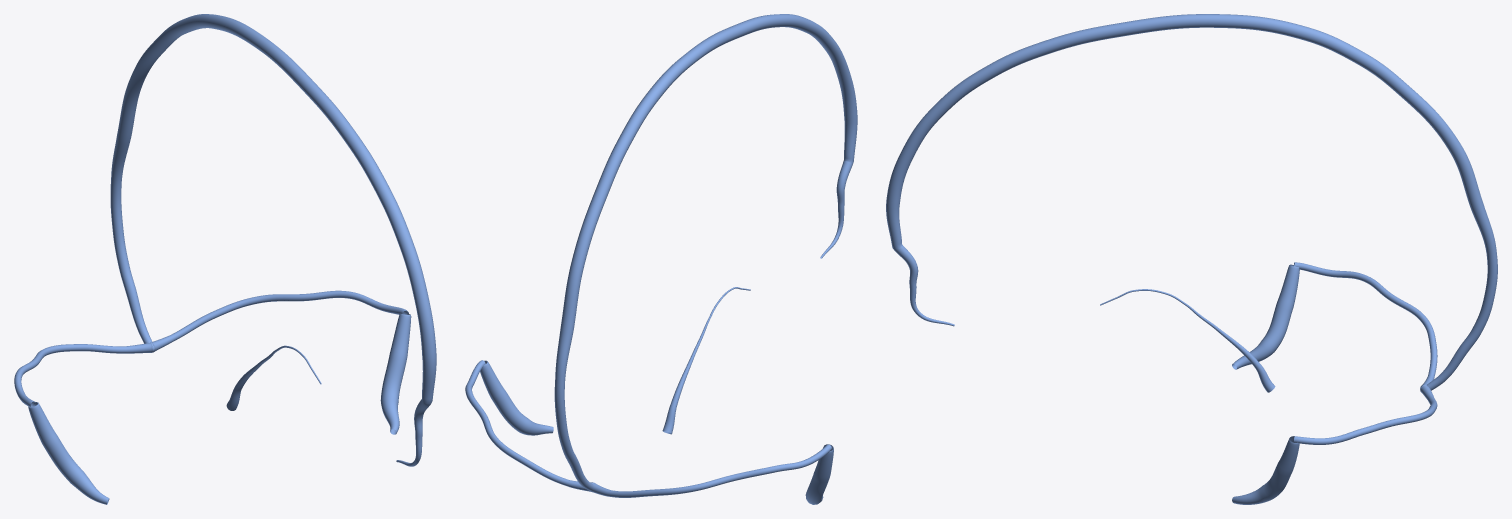
The model's file is cerebral-venous-balanced.glb.
3 renders of one model, left to right at view 1: azimuth 30°, elevation 25°; view 2: azimuth 150°, elevation 25°; view 3: azimuth 270°, elevation 25°, orthographic. The views are drawn at different scales.
Parts seen in each view (by area): view 1: za.superior-sagittal-sinus, za.transverse-sinus-l, za.sigmoid-sinus-l, za.sigmoid-sinus-r, za.transverse-sinus-r, za.straight-sinus; view 2: za.superior-sagittal-sinus, za.transverse-sinus-r, za.sigmoid-sinus-l, za.transverse-sinus-l, za.sigmoid-sinus-r, za.straight-sinus; view 3: za.superior-sagittal-sinus, za.sigmoid-sinus-r, za.transverse-sinus-r, za.sigmoid-sinus-l, za.transverse-sinus-l, za.straight-sinus.
Boxes of the visible parts, bbox=[...] form: za.superior-sagittal-sinus: bbox=[110, 14, 436, 466]; za.transverse-sinus-l: bbox=[151, 290, 408, 351]; za.sigmoid-sinus-l: bbox=[380, 313, 411, 434]; za.sigmoid-sinus-r: bbox=[28, 402, 109, 504]; za.transverse-sinus-r: bbox=[14, 342, 152, 407]; za.straight-sinus: bbox=[226, 345, 321, 410]; za.superior-sagittal-sinus: bbox=[554, 14, 857, 490]; za.transverse-sinus-r: bbox=[590, 444, 831, 497]; za.sigmoid-sinus-l: bbox=[480, 360, 553, 435]; za.transverse-sinus-l: bbox=[465, 360, 592, 491]; za.sigmoid-sinus-r: bbox=[805, 444, 833, 504]; za.straight-sinus: bbox=[662, 287, 750, 434]; za.superior-sagittal-sinus: bbox=[886, 14, 1497, 390]; za.sigmoid-sinus-r: bbox=[1232, 264, 1299, 369]; za.transverse-sinus-r: bbox=[1294, 262, 1437, 388]; za.sigmoid-sinus-l: bbox=[1232, 436, 1299, 504]; za.transverse-sinus-l: bbox=[1294, 384, 1437, 444]; za.straight-sinus: bbox=[1100, 289, 1275, 392].
Size of the model in its own units: 0.1219 by 0.1348 by 0.1772.
